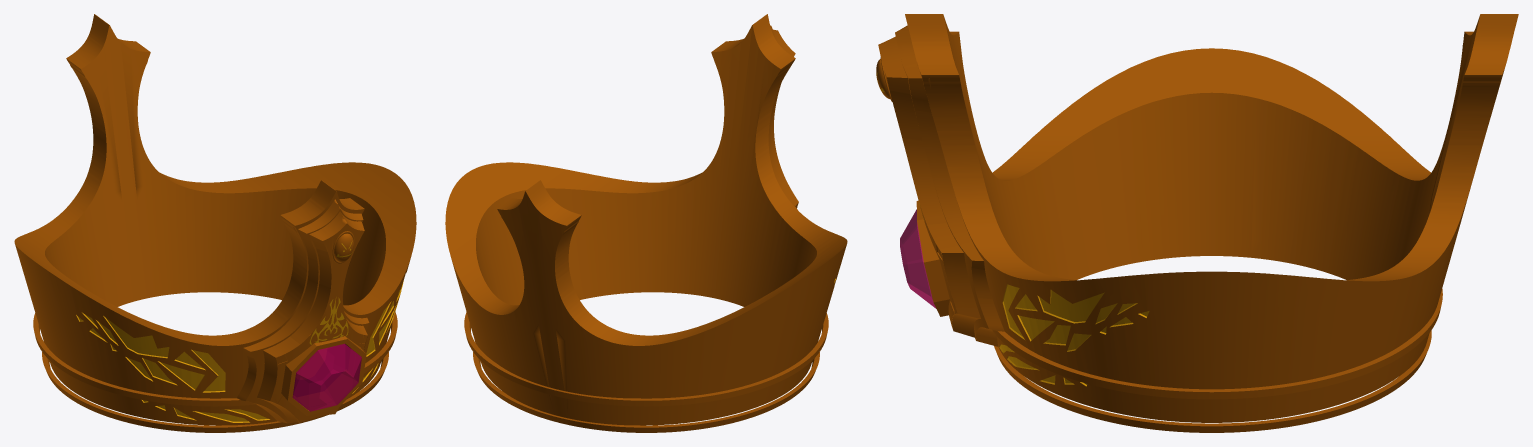
Rendered from crown kfad.fbx.
3 views of the same model, side by side, from view 1: azimuth 30°, elevation 25°; view 2: azimuth 150°, elevation 25°; view 3: azimuth 270°, elevation 25° (orthographic). The views are drawn at different scales.
Visible parts, largest first — view 1: Tube006, Teapot004, Shape009, Shape007, Shape006, Tube008, Tube007, Shape008, Sphere001; view 2: Tube006, Tube007, Tube008, Shape007, Shape006; view 3: Tube006, Shape007, Shape006, Tube007, Tube008, Teapot004.
Part boxes in pixels (x1=…): Tube006: x1=14, y1=14, x2=416, y2=425; Teapot004: x1=275, y1=334, x2=366, y2=415; Shape009: x1=270, y1=223, x2=367, y2=422; Shape007: x1=257, y1=211, x2=367, y2=422; Shape006: x1=237, y1=199, x2=369, y2=423; Tube008: x1=42, y1=352, x2=388, y2=432; Tube007: x1=33, y1=312, x2=397, y2=406; Shape008: x1=246, y1=209, x2=368, y2=423; Sphere001: x1=334, y1=233, x2=353, y2=262; Tube006: x1=445, y1=14, x2=847, y2=425; Tube007: x1=464, y1=312, x2=828, y2=406; Tube008: x1=473, y1=352, x2=819, y2=432; Shape007: x1=771, y1=29, x2=798, y2=207; Shape006: x1=768, y1=25, x2=797, y2=209; Tube006: x1=905, y1=14, x2=1518, y2=422; Shape007: x1=878, y1=36, x2=980, y2=337; Shape006: x1=895, y1=25, x2=1004, y2=346; Tube007: x1=992, y1=289, x2=1442, y2=399; Tube008: x1=994, y1=330, x2=1431, y2=432; Teapot004: x1=900, y1=200, x2=951, y2=316.
Bounding box in the file's own units: 566 × 387 × 689.
